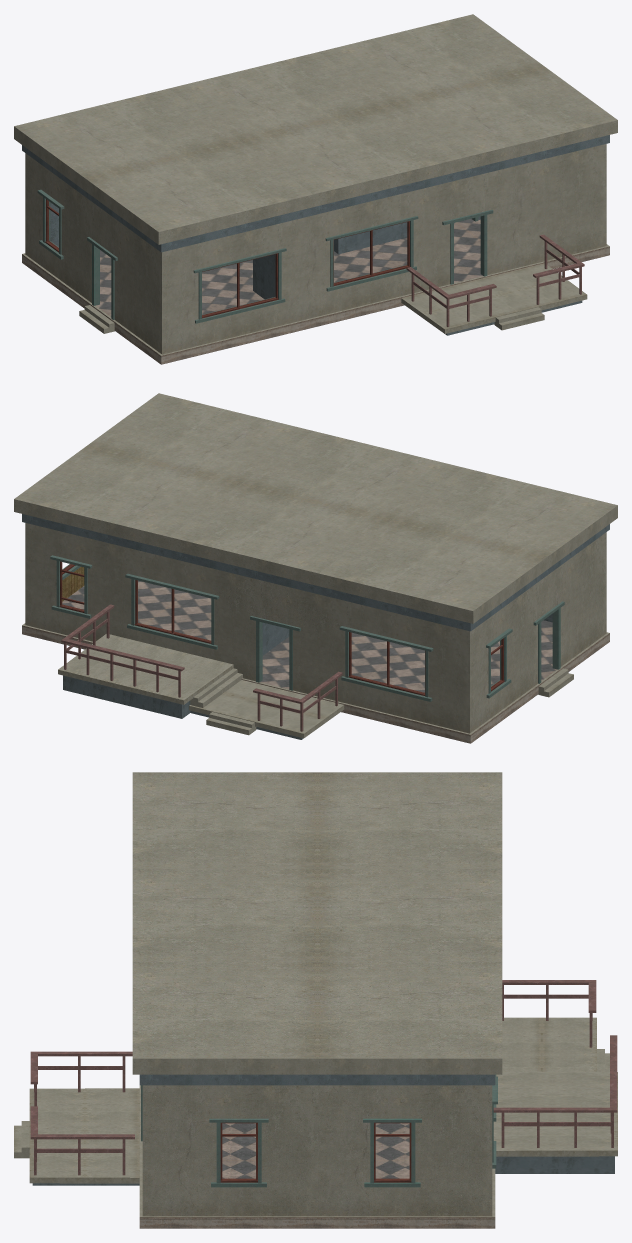
File: Building_1c012048.glb
3 renders of one model, top to bottom at view 1: azimuth 30°, elevation 25°; view 2: azimuth 150°, elevation 25°; view 3: azimuth 270°, elevation 25°, orthographic. The views are drawn at different scales.
Parts seen in each view (by area): view 1: xiutz_1c_01_2048; view 2: xiutz_1c_01_2048; view 3: xiutz_1c_01_2048.
Part boxes in pixels (<box>): xiutz_1c_01_2048: <box>14,14,617,364</box>; xiutz_1c_01_2048: <box>14,393,617,743</box>; xiutz_1c_01_2048: <box>14,772,617,1228</box>.
Size of the model in its own units: 23.16 by 6.51 by 20.42.
1 material, 1 textured.
